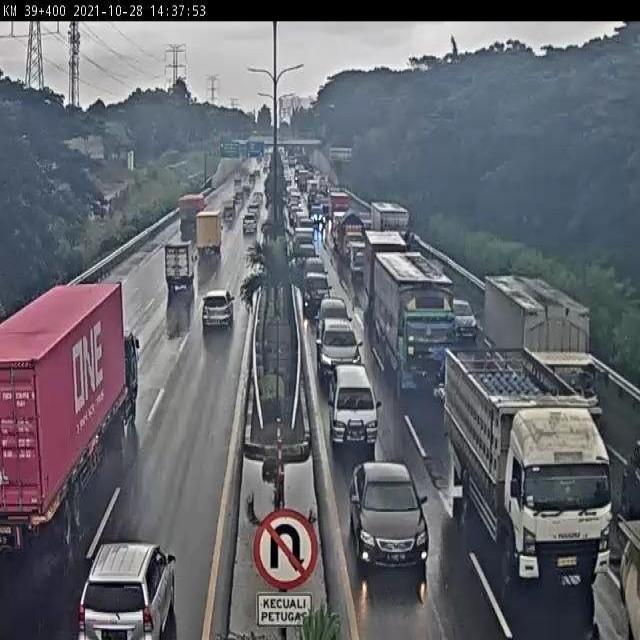big truck: (483, 366, 640, 640), (26, 256, 165, 477), (386, 276, 464, 379)
car: (348, 456, 438, 581), (82, 534, 174, 638), (333, 367, 385, 445), (318, 317, 368, 376), (316, 295, 359, 341), (201, 282, 235, 338)
small truck: (496, 287, 617, 397), (168, 249, 208, 296)
